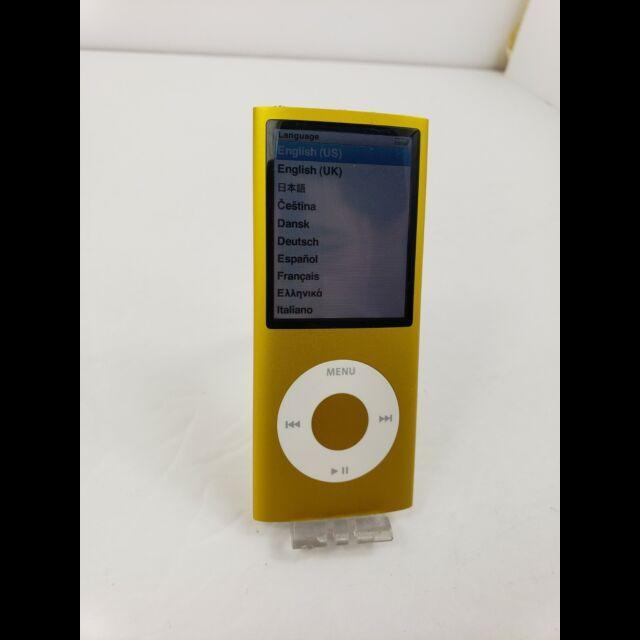Music-Player: (242, 98, 433, 540)
